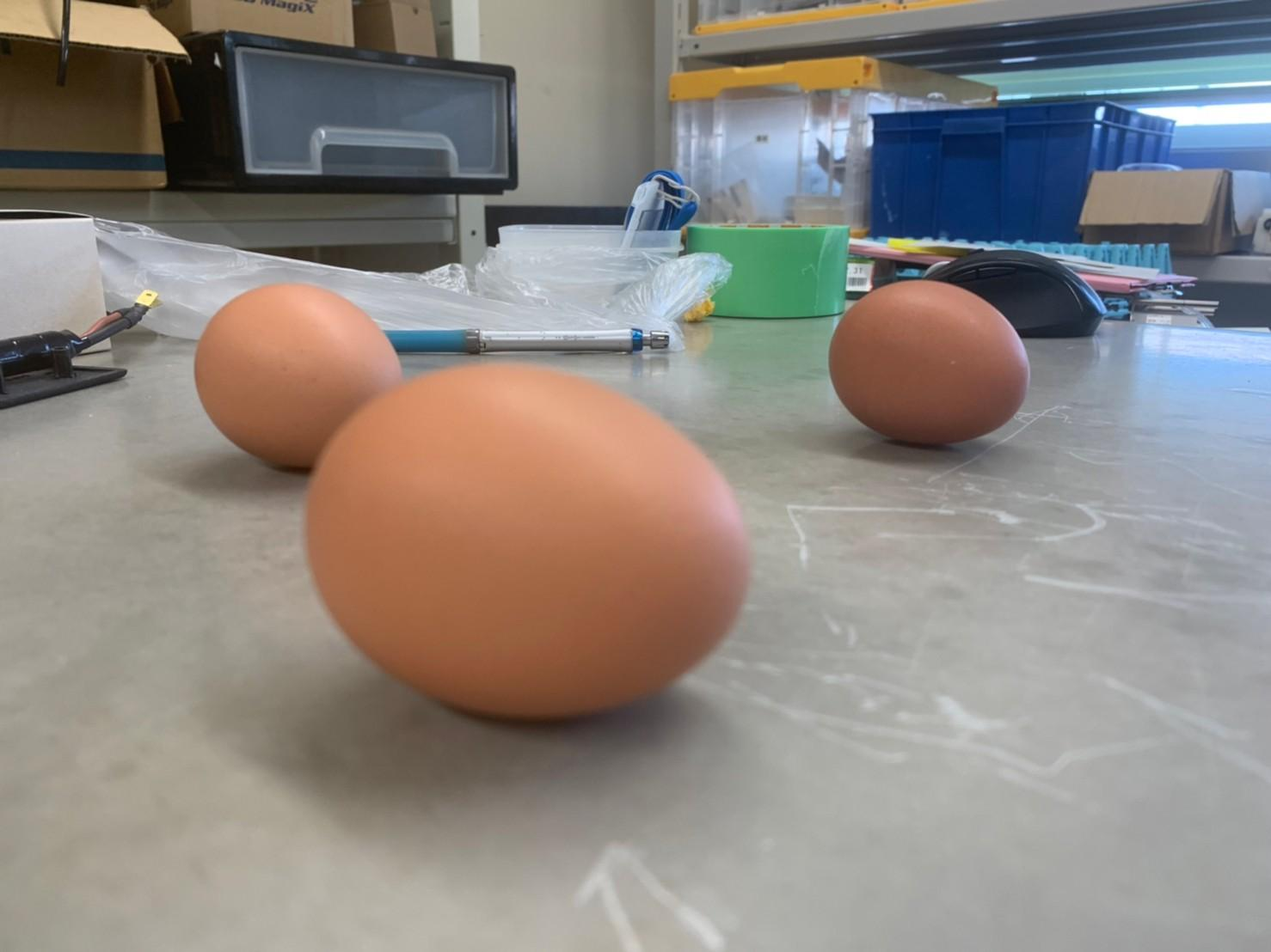egg: (294, 360, 765, 723), (184, 279, 406, 467), (824, 272, 1035, 442)
